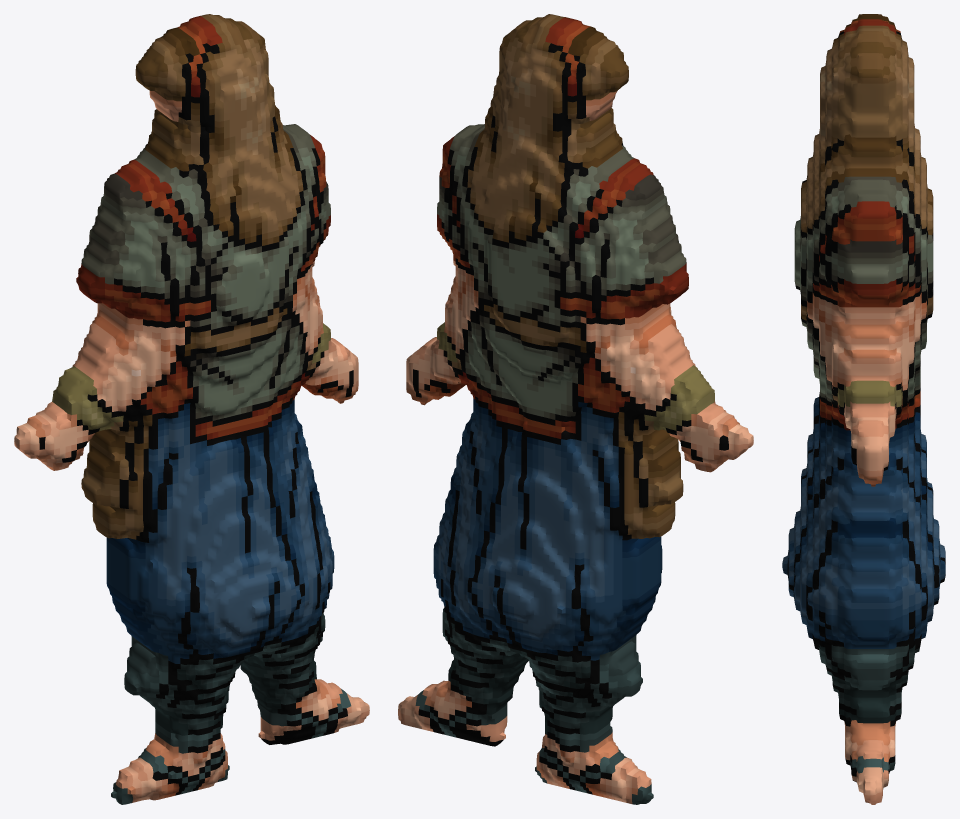
The model's file is Fight_750_1_01.obj.
3 renders of one model, left to right at view 1: azimuth 30°, elevation 25°; view 2: azimuth 150°, elevation 25°; view 3: azimuth 270°, elevation 25°, orthographic. The views are drawn at different scales.
Bounding box in the file's own units: 6.2 × 12.8 × 2.6.
1 material, 1 textured.
